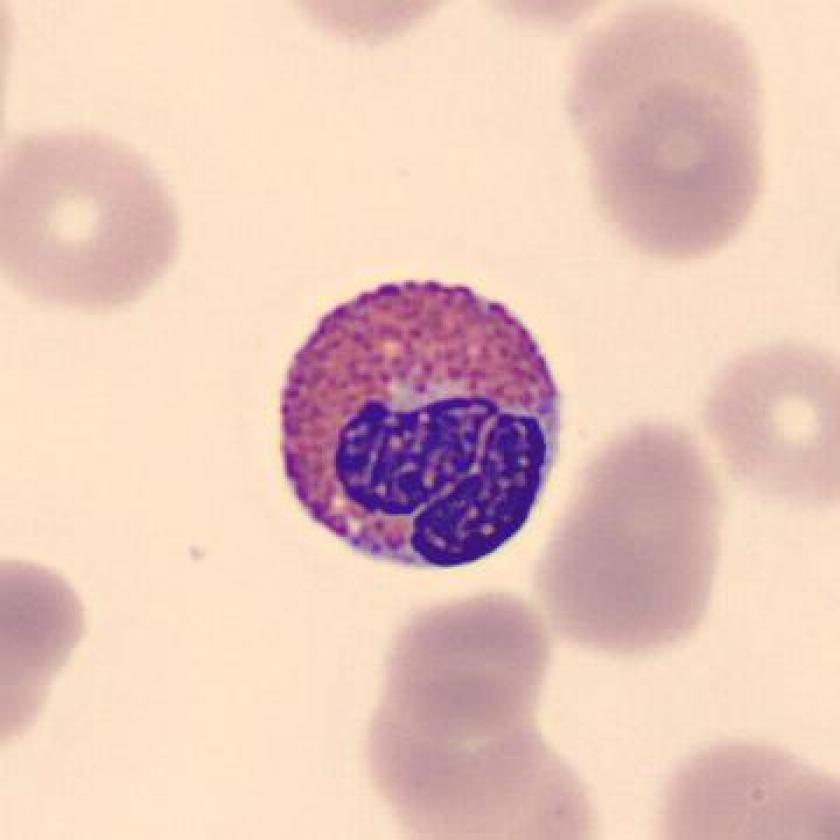eosinophil: (265, 265, 575, 579)
